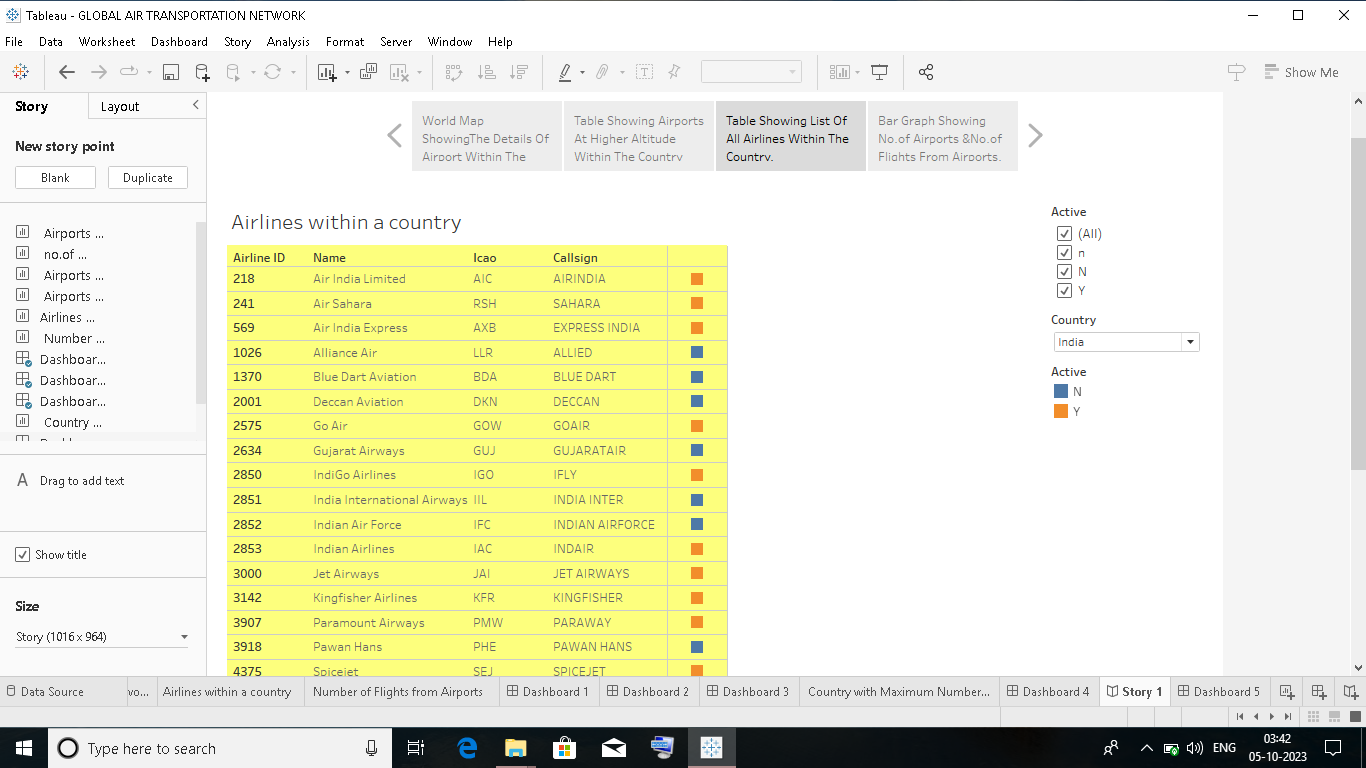

What the dashboard file says about the page in this screenshot:
{"tool":"tableau","page":{"name":"Dashboard 4","canvas":[1000,800],"ordinal":3},"visuals":[{"type":"worksheet","title":"Airlines within a country","mark":"Automatic","rows":["Airline ID","Name","ICAO","Callsign"],"box":[8,8,824,784]},{"type":"filter","title":"Airlines within a country","param":"[federated.10ei6qe0yz0oh80zsnboy1ecpc5a].[none:Active:nk]","box":[832,8,160,108]},{"type":"filter","title":"Airlines within a country","param":"[federated.10ei6qe0yz0oh80zsnboy1ecpc5a].[none:Country:nk]","box":[832,116,160,52]},{"type":"legend","title":"Airlines within a country","param":"[federated.10ei6qe0yz0oh80zsnboy1ecpc5a].[none:Active:nk]","box":[832,168,160,66]}]}

Visuals, with their boxes on the page's 1000x800 design canvas (x1, y1, x2, y2). These are canvas units, not pixel positions in the 1366x768 screenshot, which may show the page scaled, cropped or inside an application window:
"Airlines within a country" worksheet: locate(8, 8, 832, 792)
"Airlines within a country" filter: locate(832, 8, 992, 116)
"Airlines within a country" filter: locate(832, 116, 992, 168)
"Airlines within a country" legend: locate(832, 168, 992, 234)
